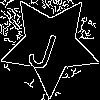J: (25, 20, 63, 73)
